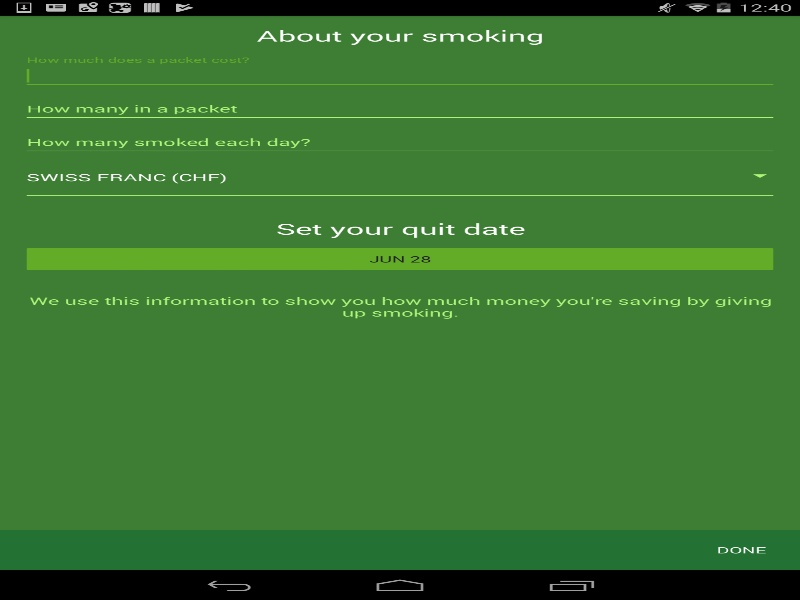Button: (21, 244, 778, 274), (682, 530, 800, 570)
Input: (21, 62, 778, 89), (21, 129, 778, 156), (21, 96, 778, 122)
